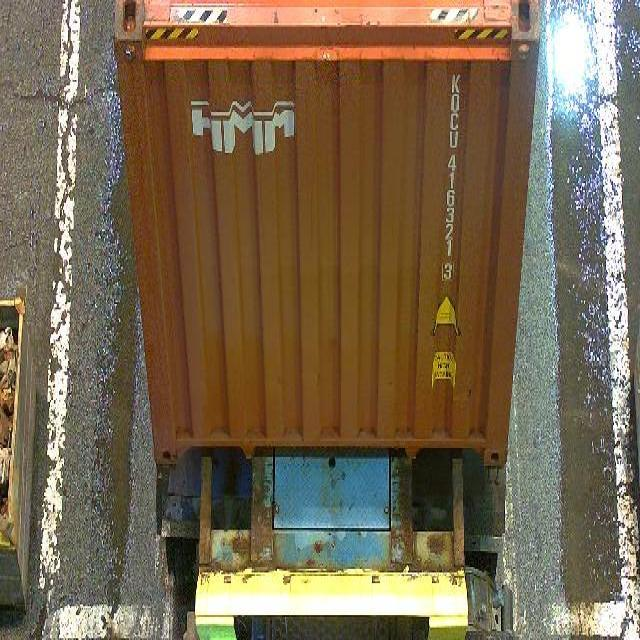container_number: (443, 63, 463, 284)
